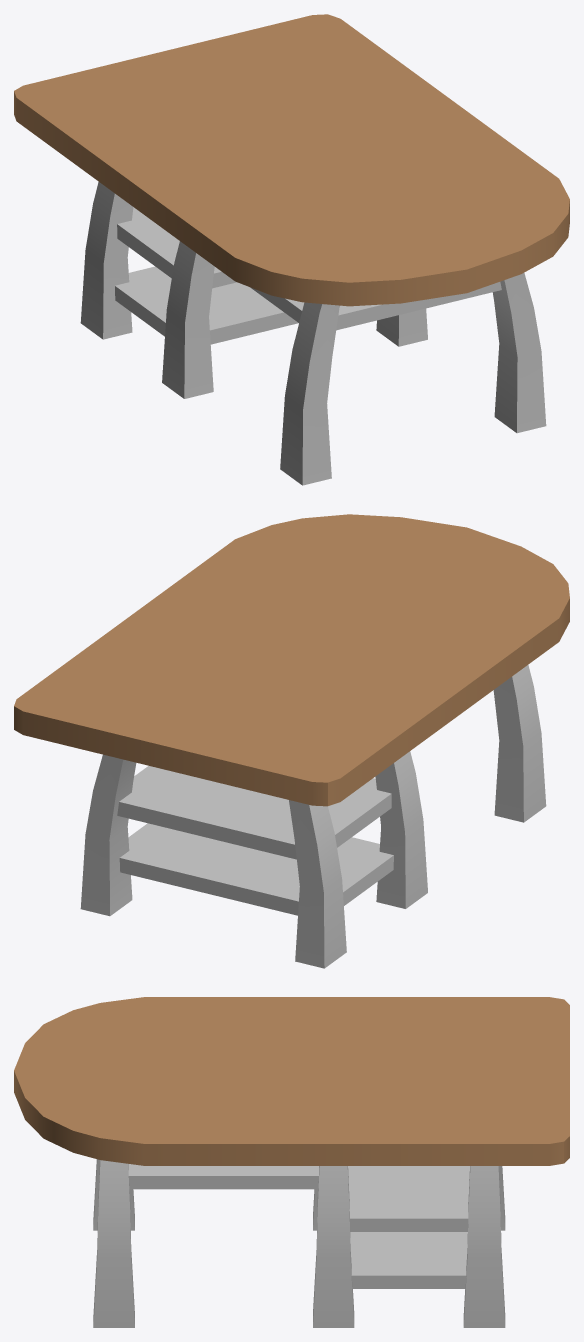
The model's file is Kitchen table.fbx.
3 views of the same model, one above another, from view 1: azimuth 30°, elevation 25°; view 2: azimuth 150°, elevation 25°; view 3: azimuth 270°, elevation 25° (orthographic). The views are drawn at different scales.
Visible parts, largest first — view 1: Kitchen table; view 2: Kitchen table; view 3: Kitchen table.
Boxes of the visible parts, x1,y1,x2,y2 form: Kitchen table: (14, 14, 569, 485); Kitchen table: (14, 514, 569, 968); Kitchen table: (14, 997, 569, 1327).
Bounding box in the file's own units: 203 × 130 × 324.
